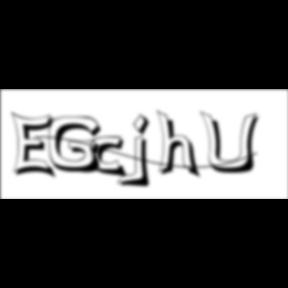E: (12, 110, 60, 182)
G: (50, 116, 109, 176)
U: (200, 110, 266, 176)
c: (91, 136, 131, 180)
h: (156, 108, 204, 182)
j: (130, 113, 156, 191)
